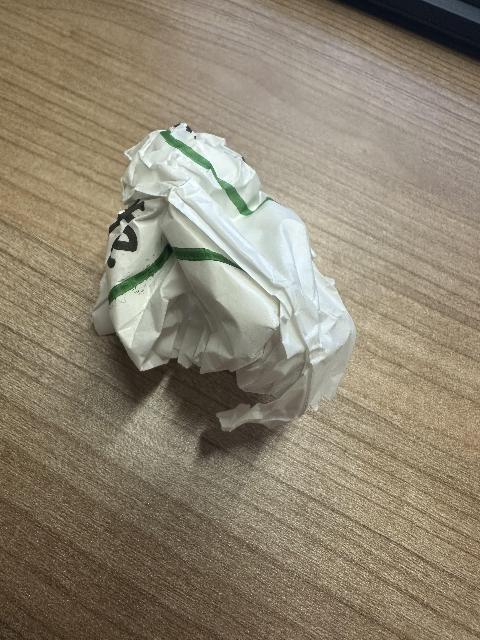Kagit: (86, 120, 367, 437)
